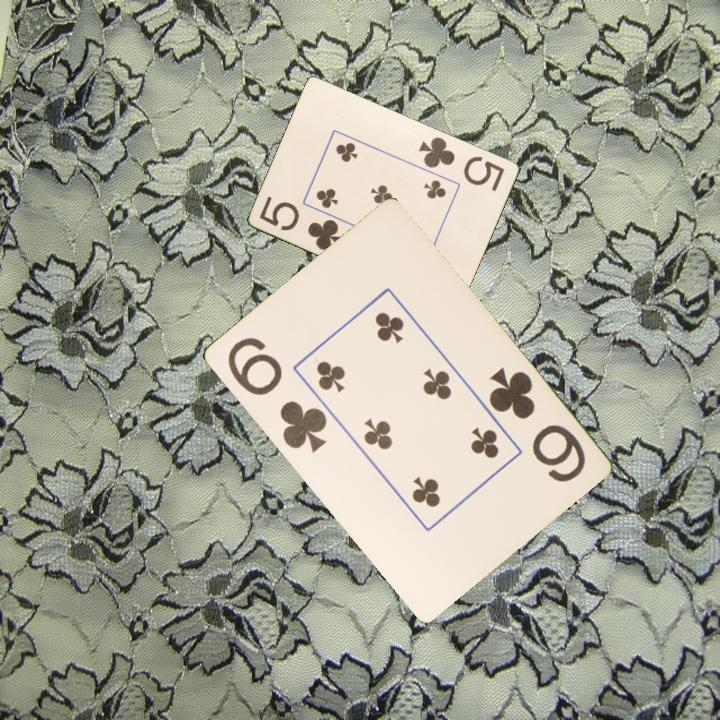5c: (415, 133, 508, 194), (256, 192, 347, 253)
6c: (223, 333, 330, 456), (484, 364, 589, 486)
